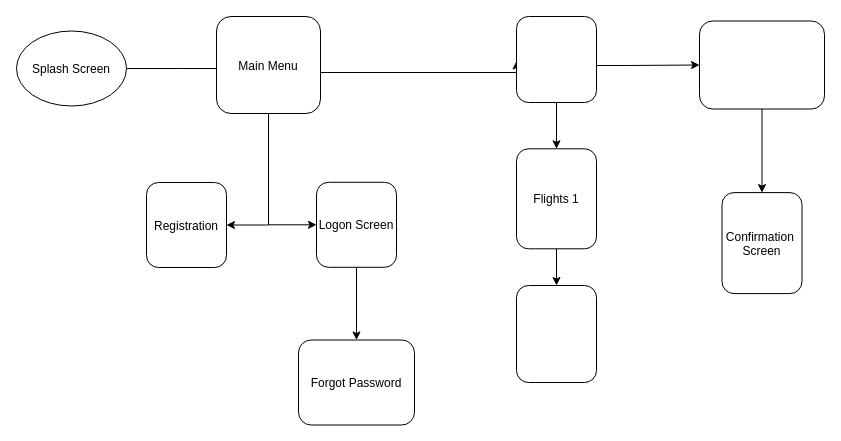
Some shapes in this 841 by 441 pixel diagram are drawn without their labels. The shapes that lost their labels are listed below. From the top down, each one's centre as x and y in pixels, then its label:
At pixel 556 59: "Search Flight".
At pixel 761 64: "Traveler Information Book Flight".
At pixel 556 333: "Flights 2".
